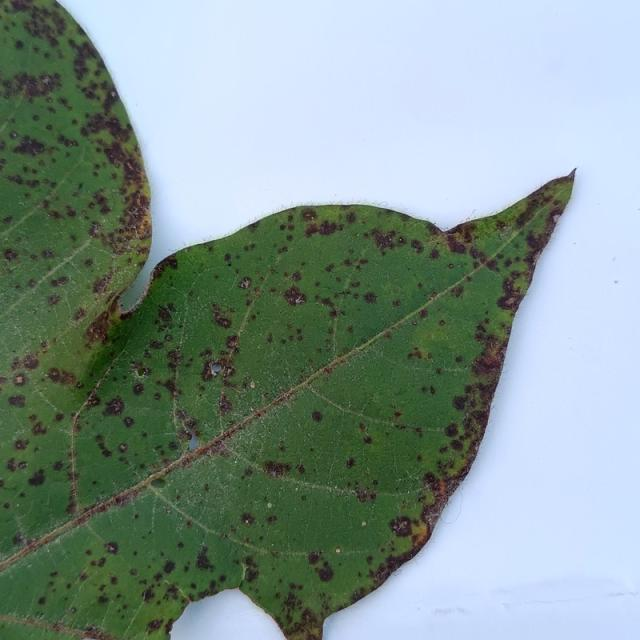Bacterial_Blight: (91, 414, 142, 462), (7, 70, 65, 106), (418, 481, 452, 534), (265, 320, 309, 350), (494, 275, 527, 312), (99, 136, 133, 170), (441, 418, 475, 452), (282, 278, 307, 316), (11, 134, 48, 157), (370, 228, 405, 252), (202, 437, 231, 459), (46, 366, 76, 387), (203, 359, 228, 383), (389, 515, 415, 537), (211, 305, 234, 329), (262, 459, 292, 477), (311, 219, 339, 237), (477, 350, 502, 370), (194, 545, 214, 570), (445, 234, 468, 254), (102, 396, 125, 416), (353, 486, 376, 504), (156, 303, 175, 324), (95, 437, 113, 458), (27, 468, 46, 487), (166, 349, 182, 371), (315, 564, 334, 582), (300, 207, 319, 224), (22, 353, 40, 370), (407, 346, 427, 361), (7, 393, 27, 408), (162, 254, 179, 271), (243, 565, 259, 583), (452, 394, 468, 411), (31, 421, 48, 436), (219, 394, 232, 413), (444, 423, 460, 438), (146, 618, 163, 632), (50, 276, 69, 288), (225, 334, 240, 349), (13, 438, 29, 452), (3, 248, 19, 262), (240, 512, 255, 526), (307, 551, 322, 565), (162, 559, 176, 574), (105, 541, 119, 555), (363, 291, 378, 304), (410, 239, 424, 252), (238, 276, 251, 290), (47, 294, 62, 306), (132, 382, 145, 395), (311, 410, 323, 423), (421, 384, 435, 395), (123, 416, 134, 428), (136, 367, 149, 377), (346, 457, 356, 469), (328, 308, 339, 318), (419, 308, 429, 318), (267, 514, 278, 523), (223, 252, 232, 263), (168, 441, 179, 450), (393, 409, 402, 419), (363, 435, 372, 445), (18, 461, 28, 470), (55, 412, 64, 422), (153, 392, 162, 400), (439, 319, 446, 326)
Cotton: (0, 0, 572, 639)
